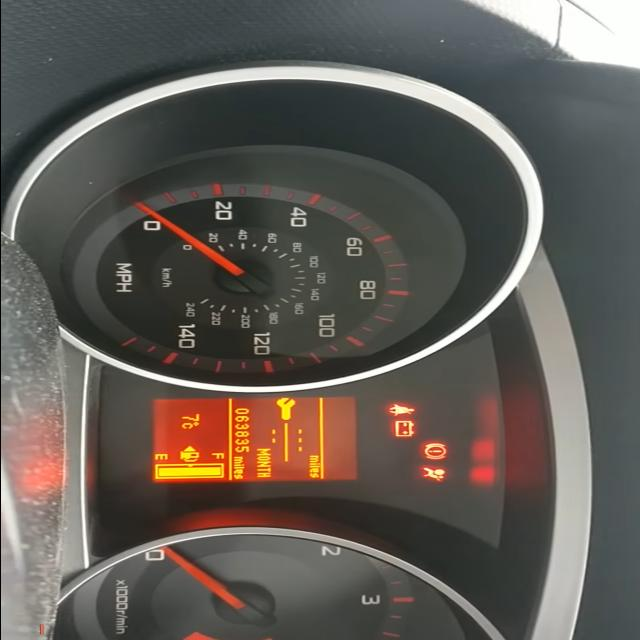Braking System Issue: (424, 442, 446, 460)
Charging System Issue: (394, 420, 414, 437)
SRS-Airbag: (422, 466, 446, 482)
